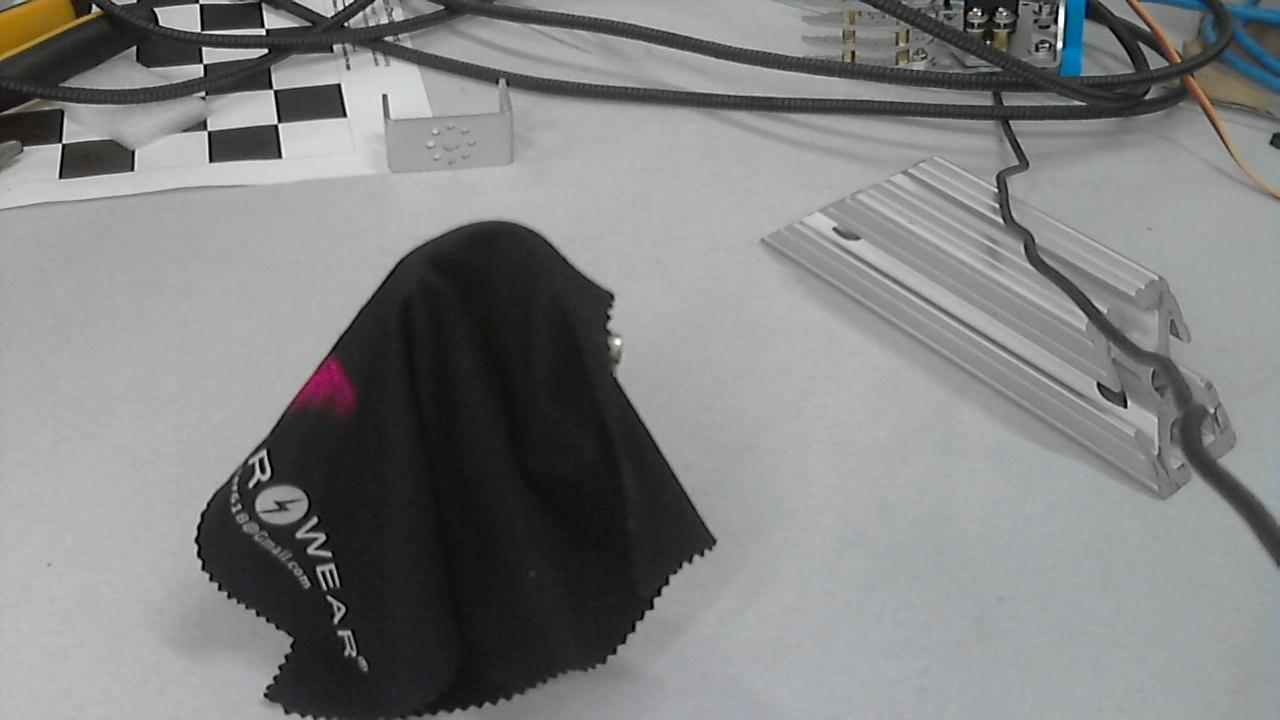Object plastic container lid - Material plastic - Color red - Pdfname ZC63DBkv6o: (280, 341, 375, 429)
